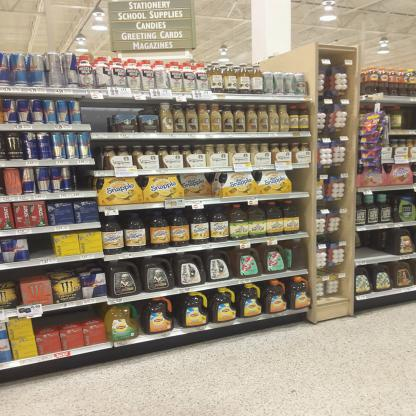Void: (357, 235, 389, 255), (39, 311, 101, 320), (90, 102, 110, 129), (28, 235, 52, 257), (292, 172, 307, 191), (78, 167, 90, 187)
